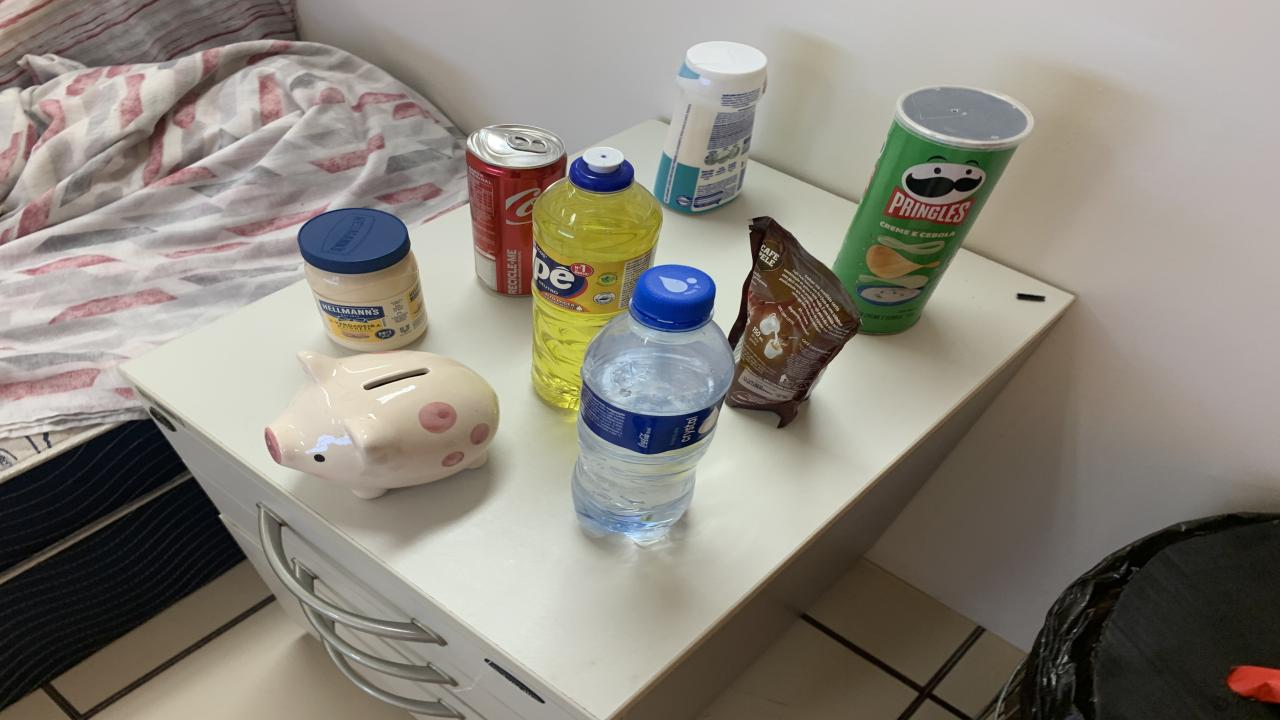Cleaner-Cleanup_Items: (655, 41, 768, 214)
Coffee-Pantry_Items: (728, 216, 860, 428)
Coke-Drinks: (468, 124, 568, 296)
Detergent-Cleanup_Items: (532, 146, 662, 409)
Mayonnaise-Pantry_Items: (298, 208, 428, 351)
Pig_Safe-Miscellaneous: (265, 351, 500, 499)
Pringles-Snacks: (832, 84, 1032, 334)
Water_Bottle-Drinks: (572, 264, 735, 540)
